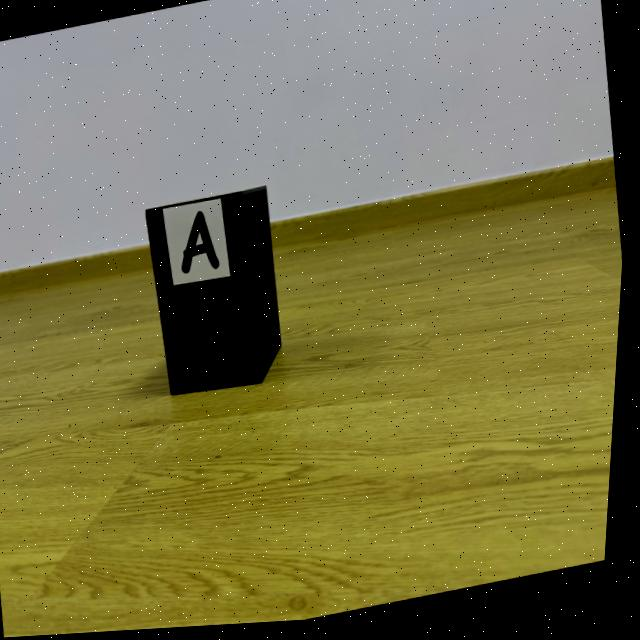A: (185, 214, 223, 276)
